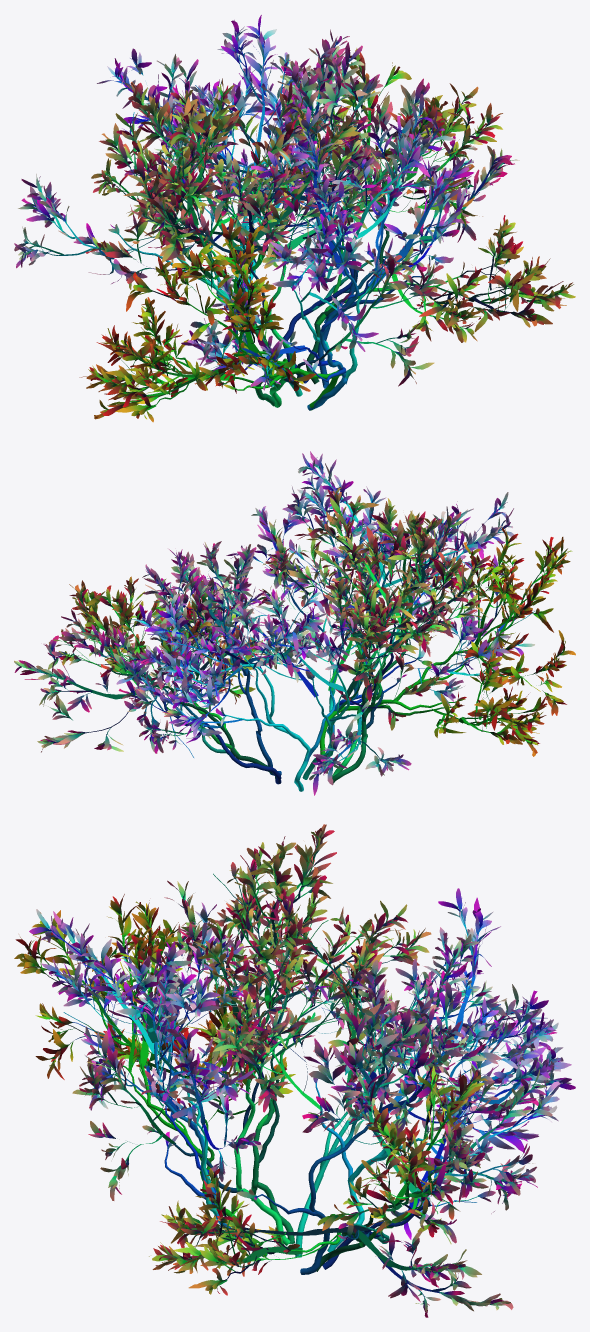
Rendered from Downy_Willow_wknlfiuqx_Mid_wknlfiuqx_VarE_LOD1.fbx.
3 renders of one model, top to bottom at view 1: azimuth 30°, elevation 25°; view 2: azimuth 150°, elevation 25°; view 3: azimuth 270°, elevation 25°, orthographic. The views are drawn at different scales.
Parts seen in each view (by area): view 1: _6eyq_VarE_LOD2; view 2: _6eyq_VarE_LOD2; view 3: _6eyq_VarE_LOD2.
Boxes of the visible parts, box(x1,y1,x2,y2) form: _6eyq_VarE_LOD2: box(14, 15, 575, 422); _6eyq_VarE_LOD2: box(14, 451, 575, 795); _6eyq_VarE_LOD2: box(14, 824, 575, 1317).
Size of the model in its own units: 283 by 175 by 247.
